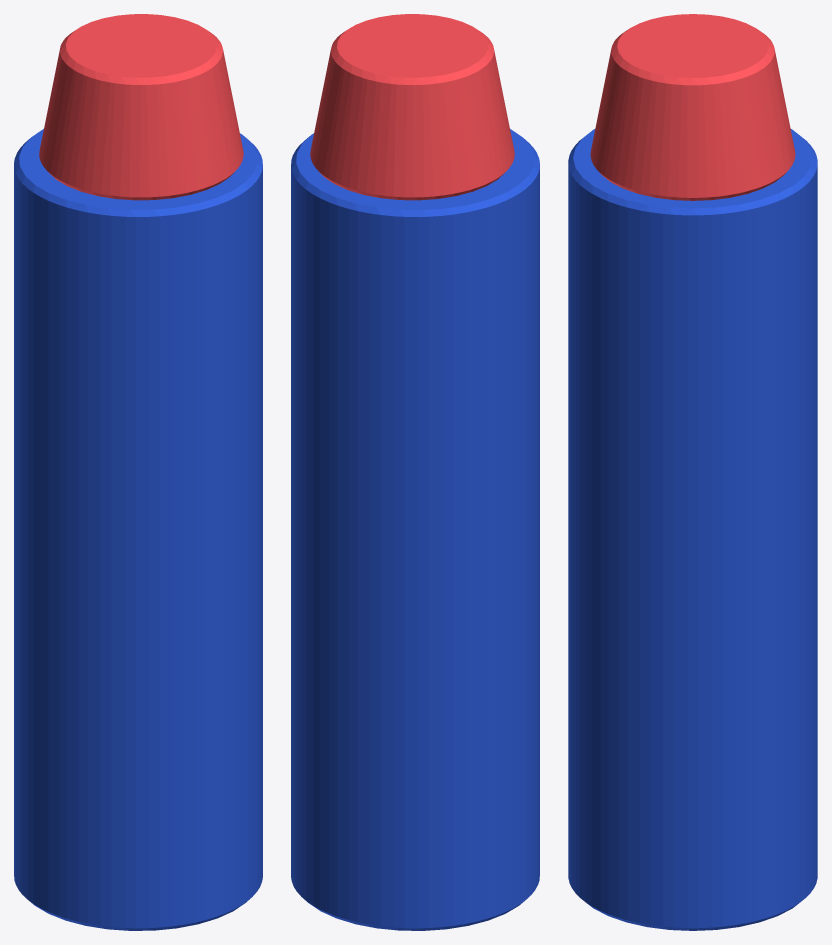
File: Nerf Bullet Upward.fbx
The picture shows the model from 3 angles, left to right: view 1: azimuth 30°, elevation 25°; view 2: azimuth 150°, elevation 25°; view 3: azimuth 270°, elevation 25°; orthographic projection.
Visible parts, largest first — view 1: Cylinder; view 2: Cylinder; view 3: Cylinder.
Part boxes in pixels (left/top/right/bottom): Cylinder: left=14, top=14, right=262, bottom=930; Cylinder: left=291, top=14, right=539, bottom=930; Cylinder: left=568, top=14, right=817, bottom=930.
Bounding box in the file's own units: 13.79 × 50.99 × 13.79.
